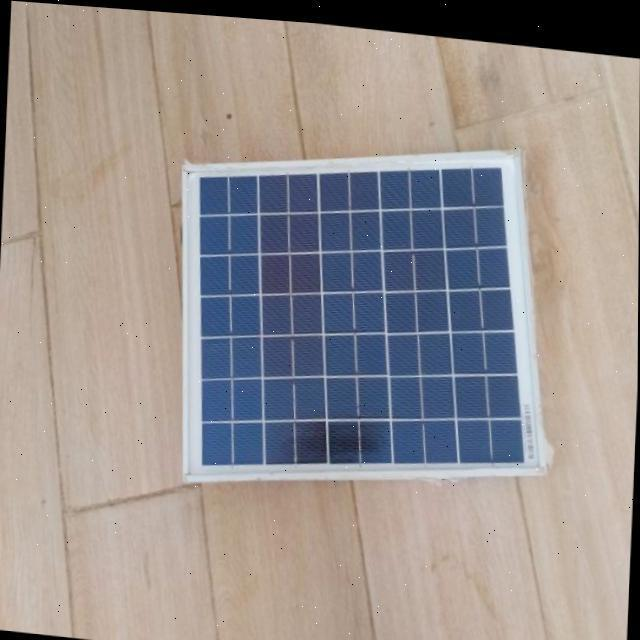Normal Solar Panel: (172, 113, 556, 508)
